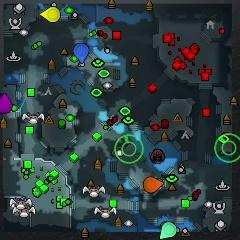p1: (74, 42, 89, 62)
p2: (159, 221, 177, 239)
p3: (0, 94, 13, 113)
p4: (40, 7, 61, 22)
p5: (143, 176, 163, 193)
